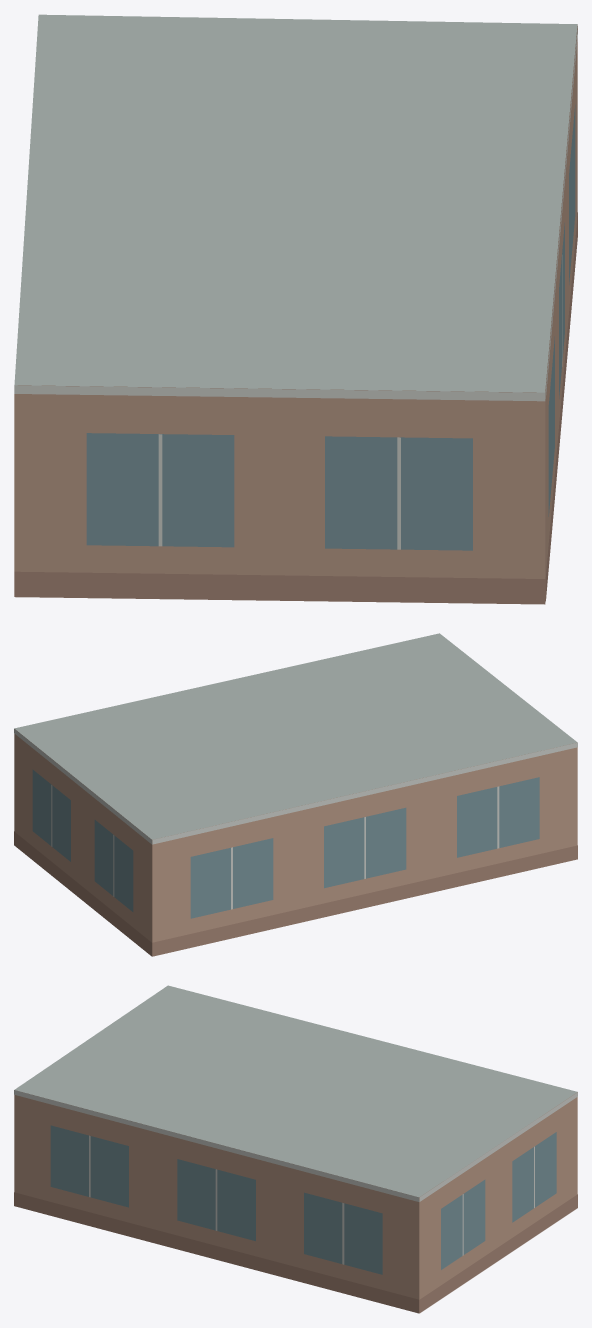
Rendered from survey-upis-32752322.glb.
3 renders of one model, top to bottom at view 1: azimuth 30°, elevation 25°; view 2: azimuth 150°, elevation 25°; view 3: azimuth 270°, elevation 25°, orthographic. The views are drawn at different scales.
Parts seen in each view (by area): view 1: survey-upis-32752322.tmp; view 2: survey-upis-32752322.tmp; view 3: survey-upis-32752322.tmp.
Boxes of the visible parts, x1=… form: survey-upis-32752322.tmp: x1=14, y1=14, x2=577, y2=604; survey-upis-32752322.tmp: x1=14, y1=633, x2=577, y2=956; survey-upis-32752322.tmp: x1=14, y1=985, x2=577, y2=1313.
Size of the model in its own units: 11.96 by 3.05 by 13.43.
